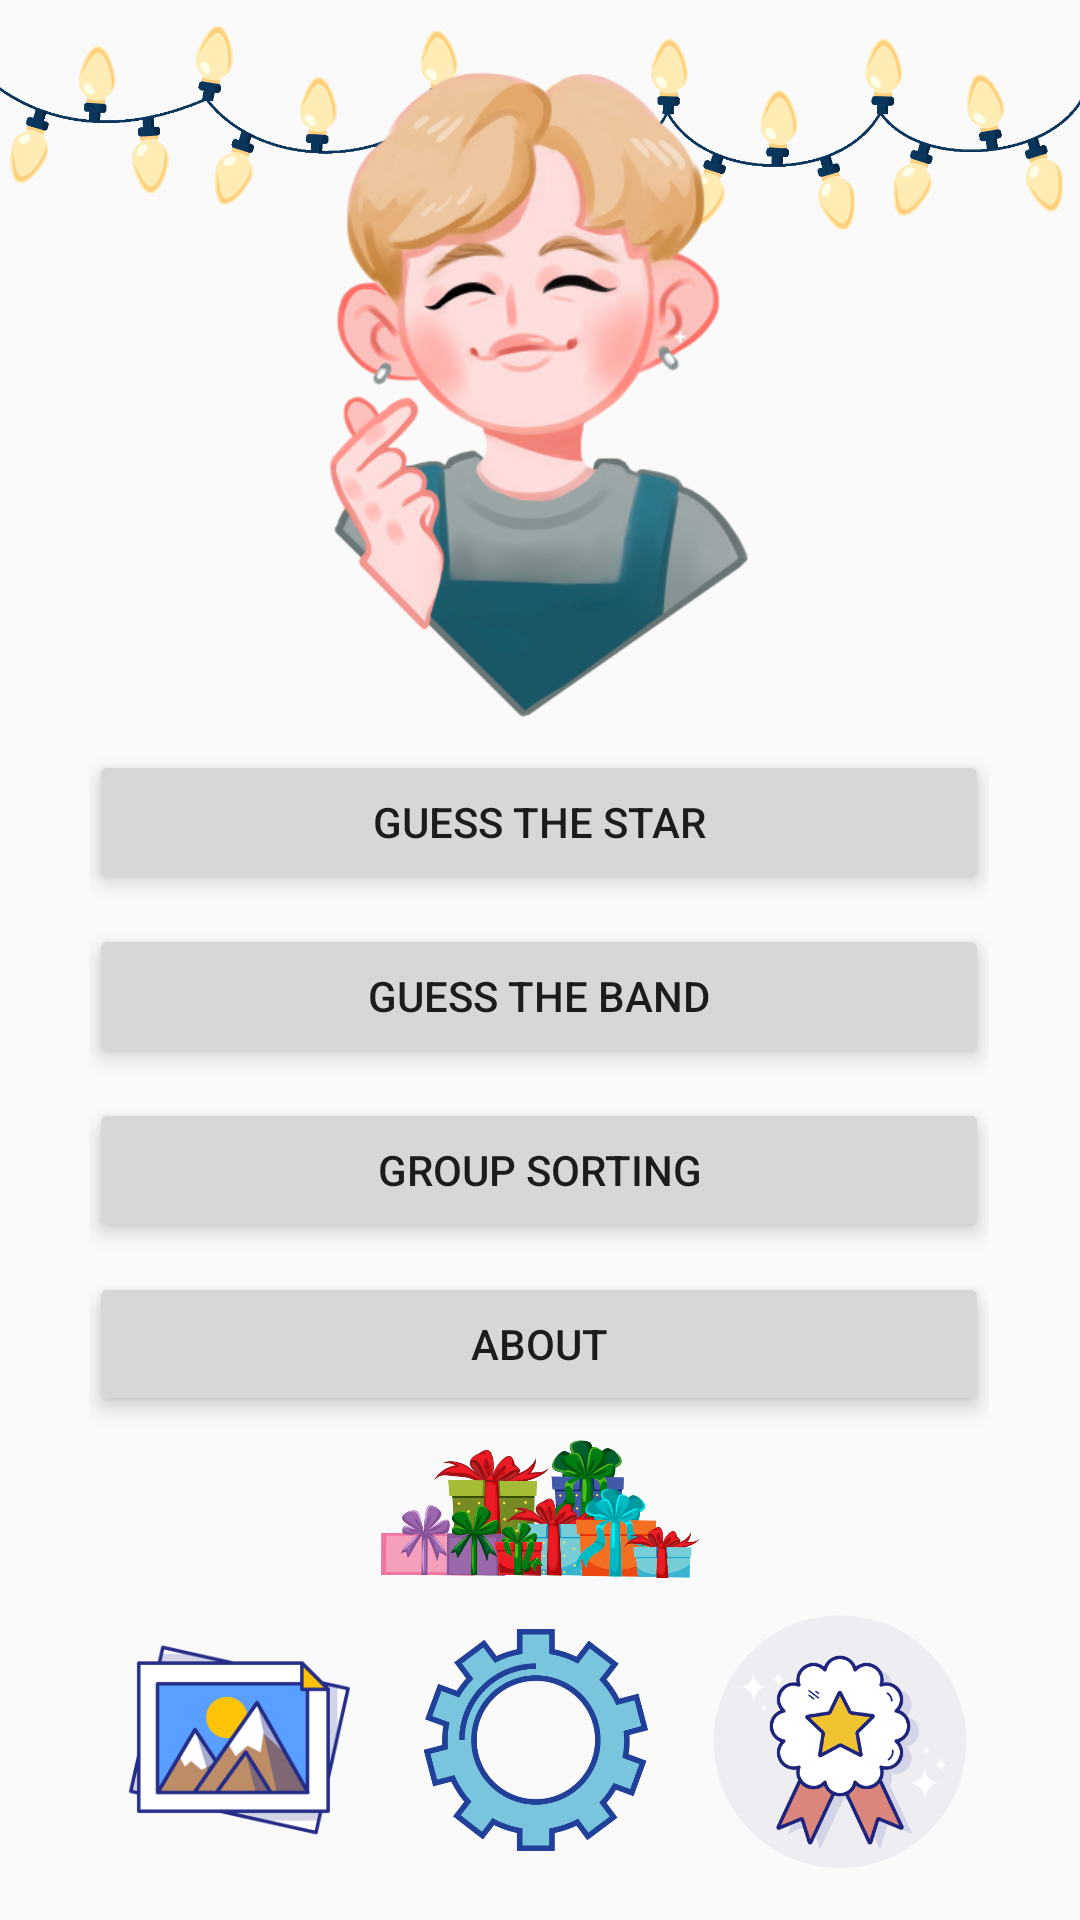

Screen size 1080px×1920px. Icon name, then its box in pixels as (x1, y1, x2, y2):
achievement: (769, 1655, 919, 1848)
gallary: (128, 1645, 350, 1835)
presents: (381, 1440, 699, 1578)
setting gear: (424, 1629, 648, 1851)
